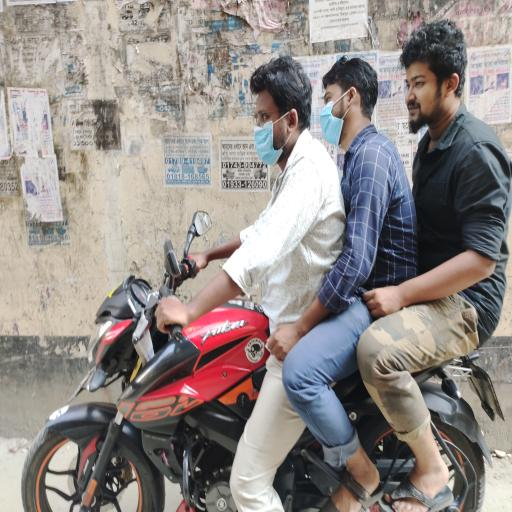helmet: (319, 86, 356, 148)
overloading: (20, 211, 504, 510)
